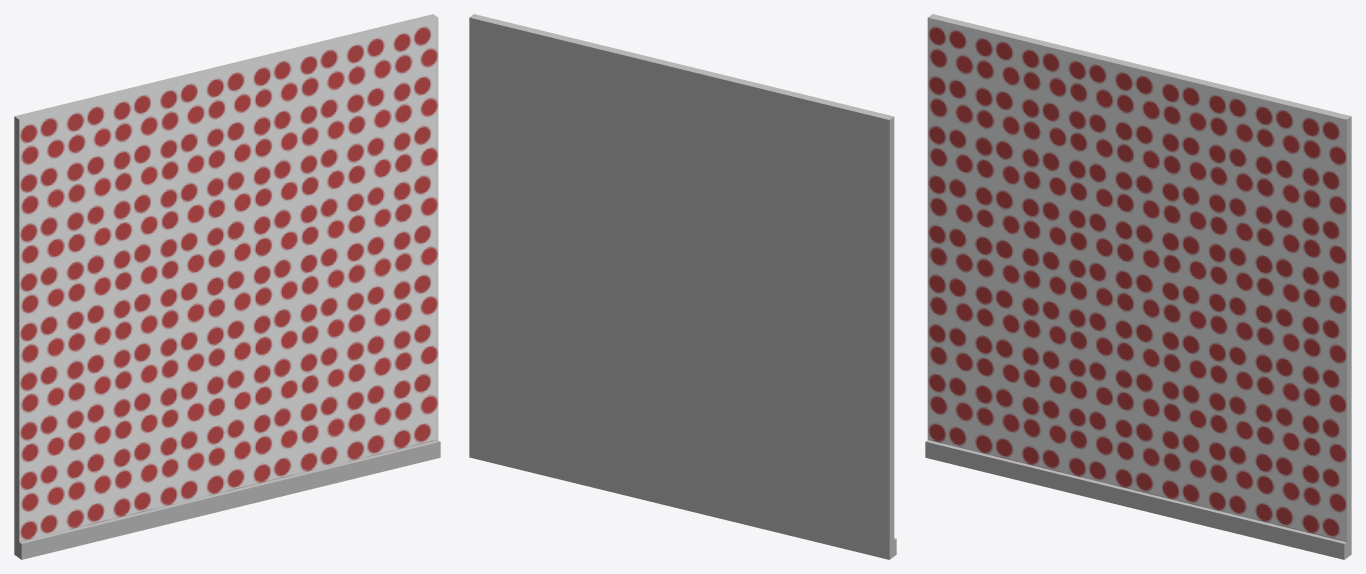
File: Wall_WP_12.FBX
3 renders of one model, left to right at view 1: azimuth 30°, elevation 25°; view 2: azimuth 150°, elevation 25°; view 3: azimuth 330°, elevation 25°, orthographic.
Visible parts, largest first — view 1: Wall_WP_01_5m; view 2: Wall_WP_01_5m; view 3: Wall_WP_01_5m.
Boxes of the visible parts, box(x1,y1,x2,y2) form: Wall_WP_01_5m: box(14, 14, 440, 559); Wall_WP_01_5m: box(469, 14, 896, 559); Wall_WP_01_5m: box(925, 14, 1351, 559).
Bounding box in the file's own units: 19685 × 19685 × 591.
